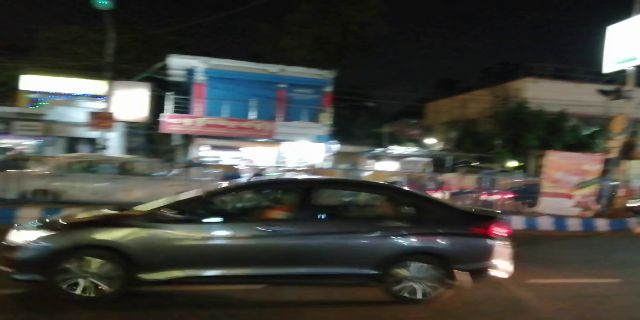Car: (1, 177, 537, 309)
